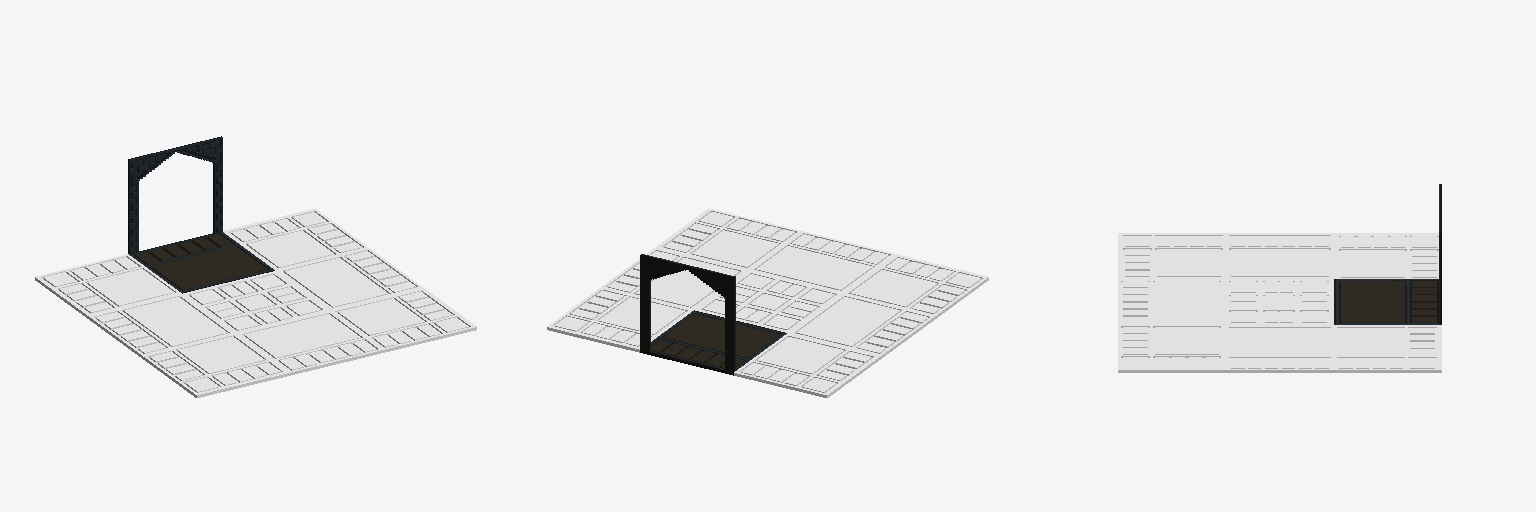
3 views of the same model, side by side, from view 1: azimuth 30°, elevation 25°; view 2: azimuth 150°, elevation 25°; view 3: azimuth 270°, elevation 25° (orthographic).
Visible parts, largest first — view 1: ObjObject.009; view 2: ObjObject.009; view 3: ObjObject.009.
Part boxes in pixels (left/top/right/bottom): ObjObject.009: left=35, top=136, right=476, bottom=397; ObjObject.009: left=547, top=208, right=988, bottom=397; ObjObject.009: left=1118, top=184, right=1441, bottom=372.
Bounding box in the file's own units: 19.2 × 6.4 × 19.21.
9 materials, 1 textured.